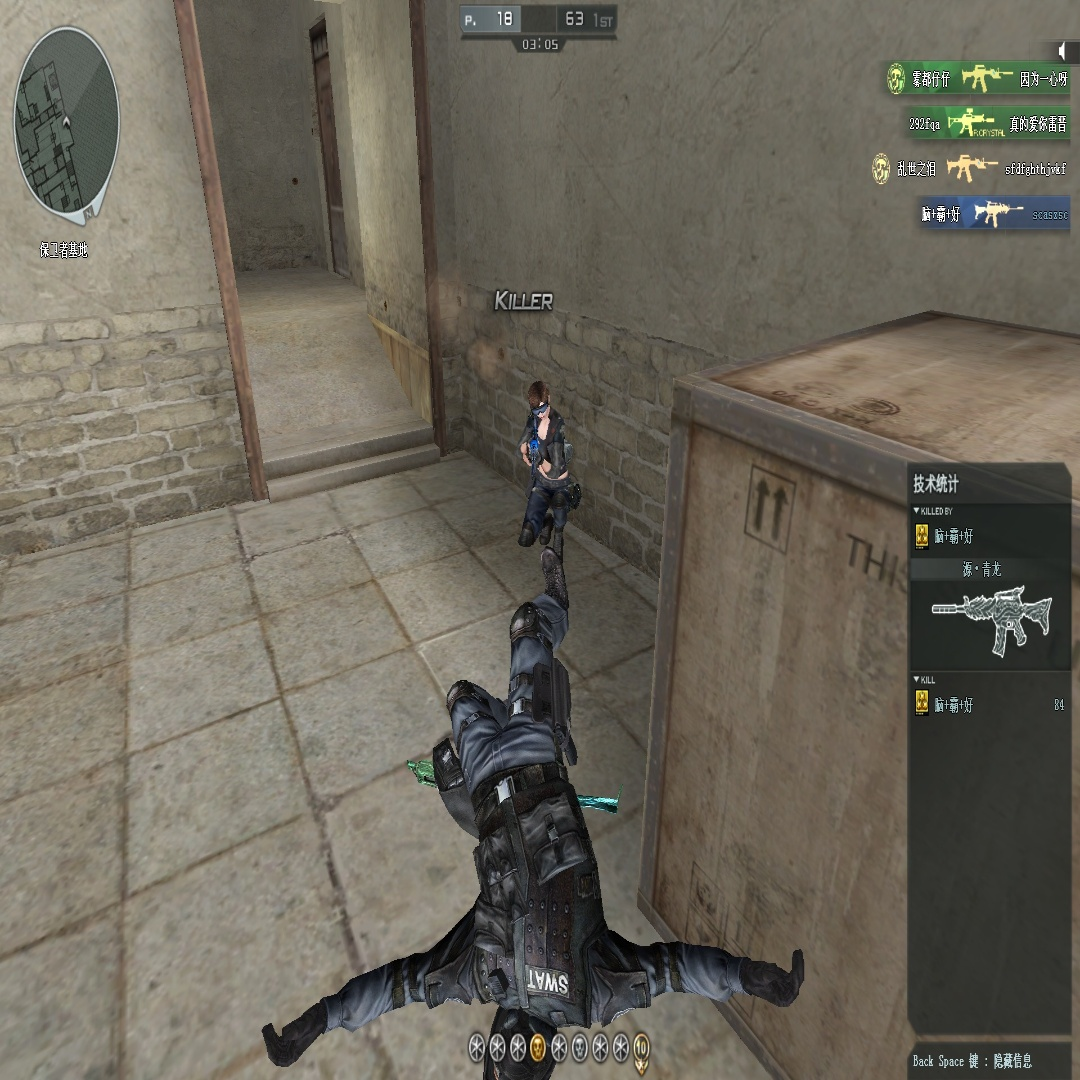head: (528, 381, 551, 425)
p: (516, 380, 581, 553)
